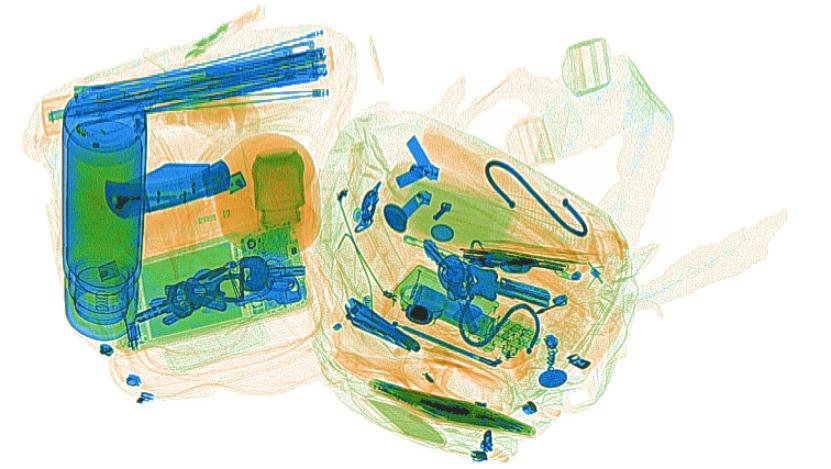battery: (410, 284, 496, 340)
knife: (103, 162, 232, 220)
